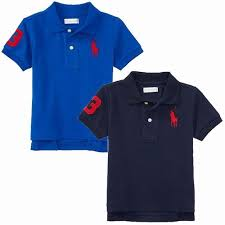S_polo shirt: (85, 72, 225, 218)
